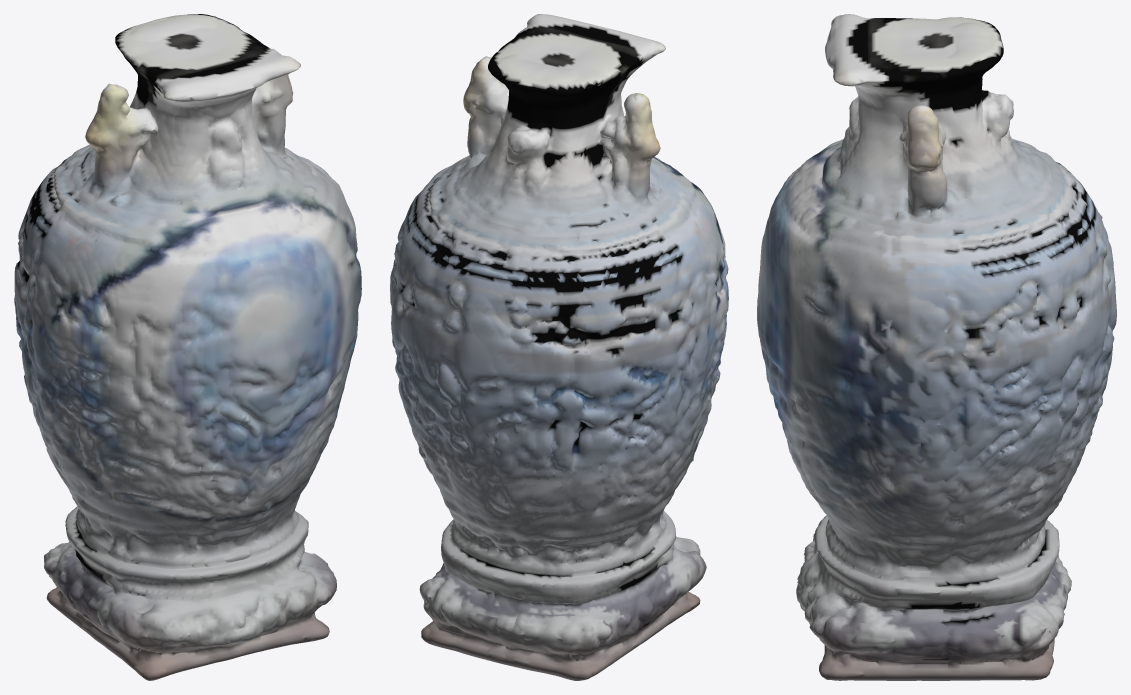
The model's file is 11ae72b9-178f-473f-bba8-609258ecd712.glb.
The picture shows the model from 3 angles, left to right: view 1: azimuth 30°, elevation 25°; view 2: azimuth 150°, elevation 25°; view 3: azimuth 270°, elevation 25°; orthographic projection. The views are drawn at different scales.
Parts seen in each view (by area): view 1: world; view 2: world; view 3: world.
Boxes of the visible parts, left/top/right/bottom form: world: left=14, top=14, right=361, bottom=680; world: left=390, top=14, right=728, bottom=680; world: left=757, top=14, right=1116, bottom=680.
Size of the model in its own units: 16.02 by 30 by 16.22.
